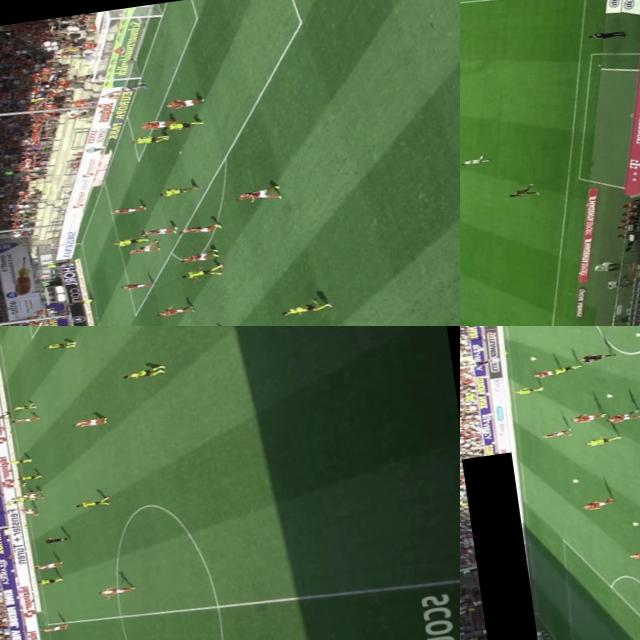ball: (604, 391, 616, 398), (629, 521, 640, 527), (571, 478, 580, 483), (635, 331, 640, 338), (530, 355, 537, 360), (26, 492, 34, 496), (144, 237, 150, 242)
player: (278, 294, 334, 317), (234, 183, 284, 204), (180, 262, 226, 282), (68, 414, 112, 432), (119, 366, 168, 382), (176, 220, 224, 236), (155, 301, 196, 318), (164, 95, 207, 111), (178, 248, 220, 264), (42, 336, 82, 352), (162, 118, 206, 132), (158, 184, 202, 198), (107, 80, 148, 95), (507, 181, 542, 198), (130, 132, 172, 146), (138, 117, 178, 131), (96, 584, 136, 598), (126, 240, 162, 255), (572, 410, 610, 424), (108, 203, 148, 216), (604, 410, 640, 424), (140, 225, 178, 238), (72, 497, 113, 509), (582, 436, 622, 448), (460, 153, 493, 167), (113, 235, 148, 248), (579, 498, 614, 511), (40, 621, 71, 635), (120, 278, 156, 290), (32, 560, 66, 571), (12, 399, 38, 413), (9, 413, 42, 424), (6, 455, 34, 467), (38, 575, 68, 586), (531, 368, 564, 378), (514, 384, 546, 394), (552, 364, 583, 374), (544, 430, 570, 440), (19, 504, 41, 515), (10, 493, 30, 505), (626, 545, 640, 561), (19, 473, 40, 483), (24, 491, 45, 499), (2, 482, 26, 488), (491, 326, 514, 328)
